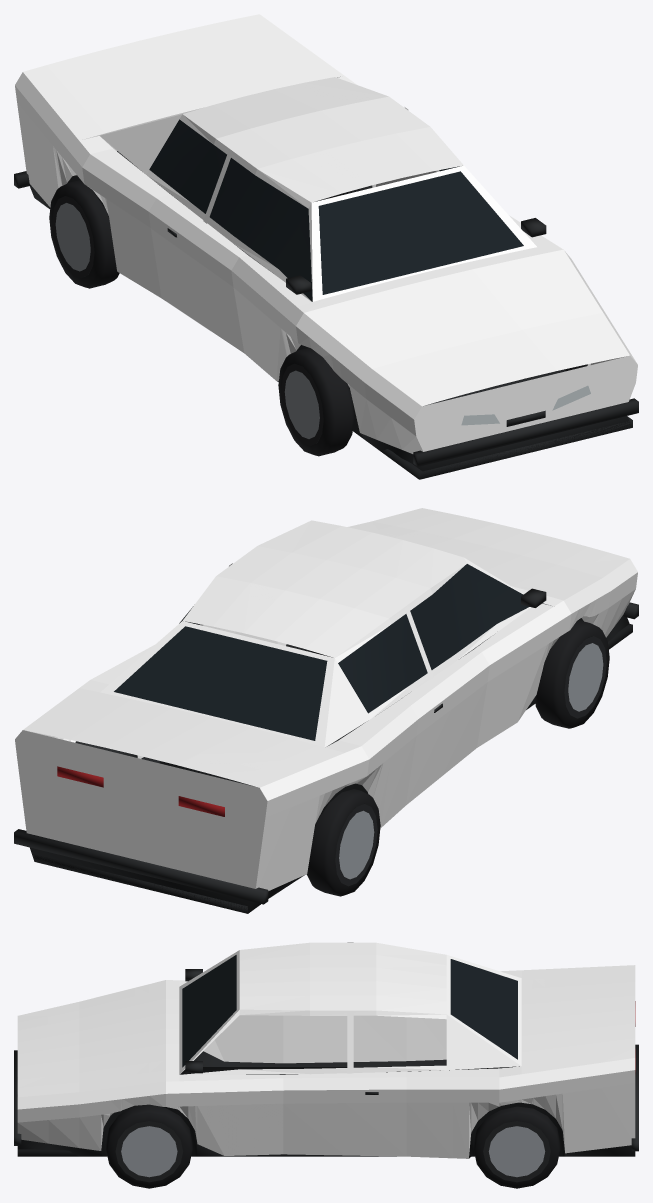
File: vorhaus_sopro.glb
3 renders of one model, top to bottom at view 1: azimuth 30°, elevation 25°; view 2: azimuth 150°, elevation 25°; view 3: azimuth 270°, elevation 25°, orthographic. The views are drawn at different scales.
Parts seen in each view (by area): view 1: Body_Paint, Body_Details, Mount_FrontLeft_Wheel_Details, Mount_RearLeft_Wheel_Details; view 2: Body_Paint, Body_Details, Mount_RearLeft_Wheel_Details, Mount_FrontLeft_Wheel_Details; view 3: Body_Paint, Body_Details, Mount_FrontRight_Wheel_Details, Mount_RearRight_Wheel_Details.
Part boxes in pixels (left/top/right/bottom): Body_Paint: left=15, top=14, right=637, bottom=453; Body_Details: left=14, top=119, right=638, bottom=479; Mount_FrontLeft_Wheel_Details: left=278, top=347, right=354, bottom=456; Mount_RearLeft_Wheel_Details: left=49, top=180, right=119, bottom=288; Body_Paint: left=15, top=508, right=637, bottom=890; Body_Details: left=14, top=564, right=638, bottom=913; Mount_RearLeft_Wheel_Details: left=306, top=789, right=380, bottom=896; Mount_FrontLeft_Wheel_Details: left=534, top=620, right=609, bottom=728; Body_Paint: left=17, top=942, right=635, bottom=1158; Body_Details: left=14, top=955, right=638, bottom=1158; Mount_FrontRight_Wheel_Details: left=106, top=1104, right=192, bottom=1188; Mount_RearRight_Wheel_Details: left=473, top=1106, right=560, bottom=1188.
Size of the model in its own units: 1.99 by 1.33 by 4.68.
Materials: 2 (1 with a texture image).
